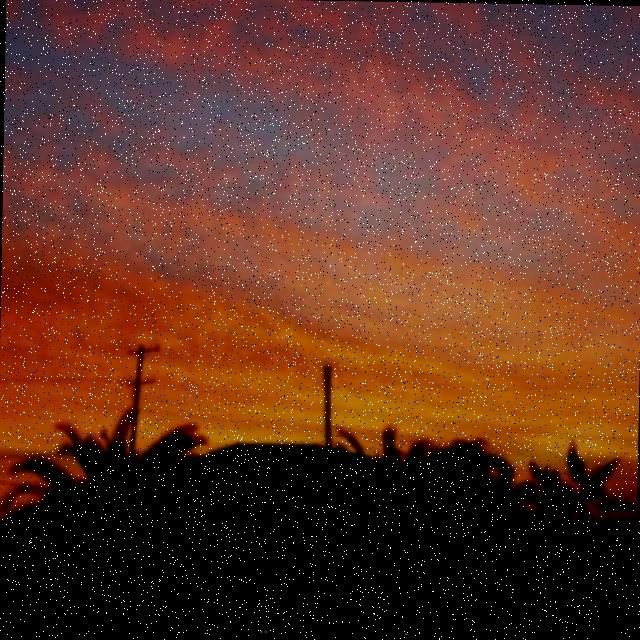As: (1, 63, 640, 393)
